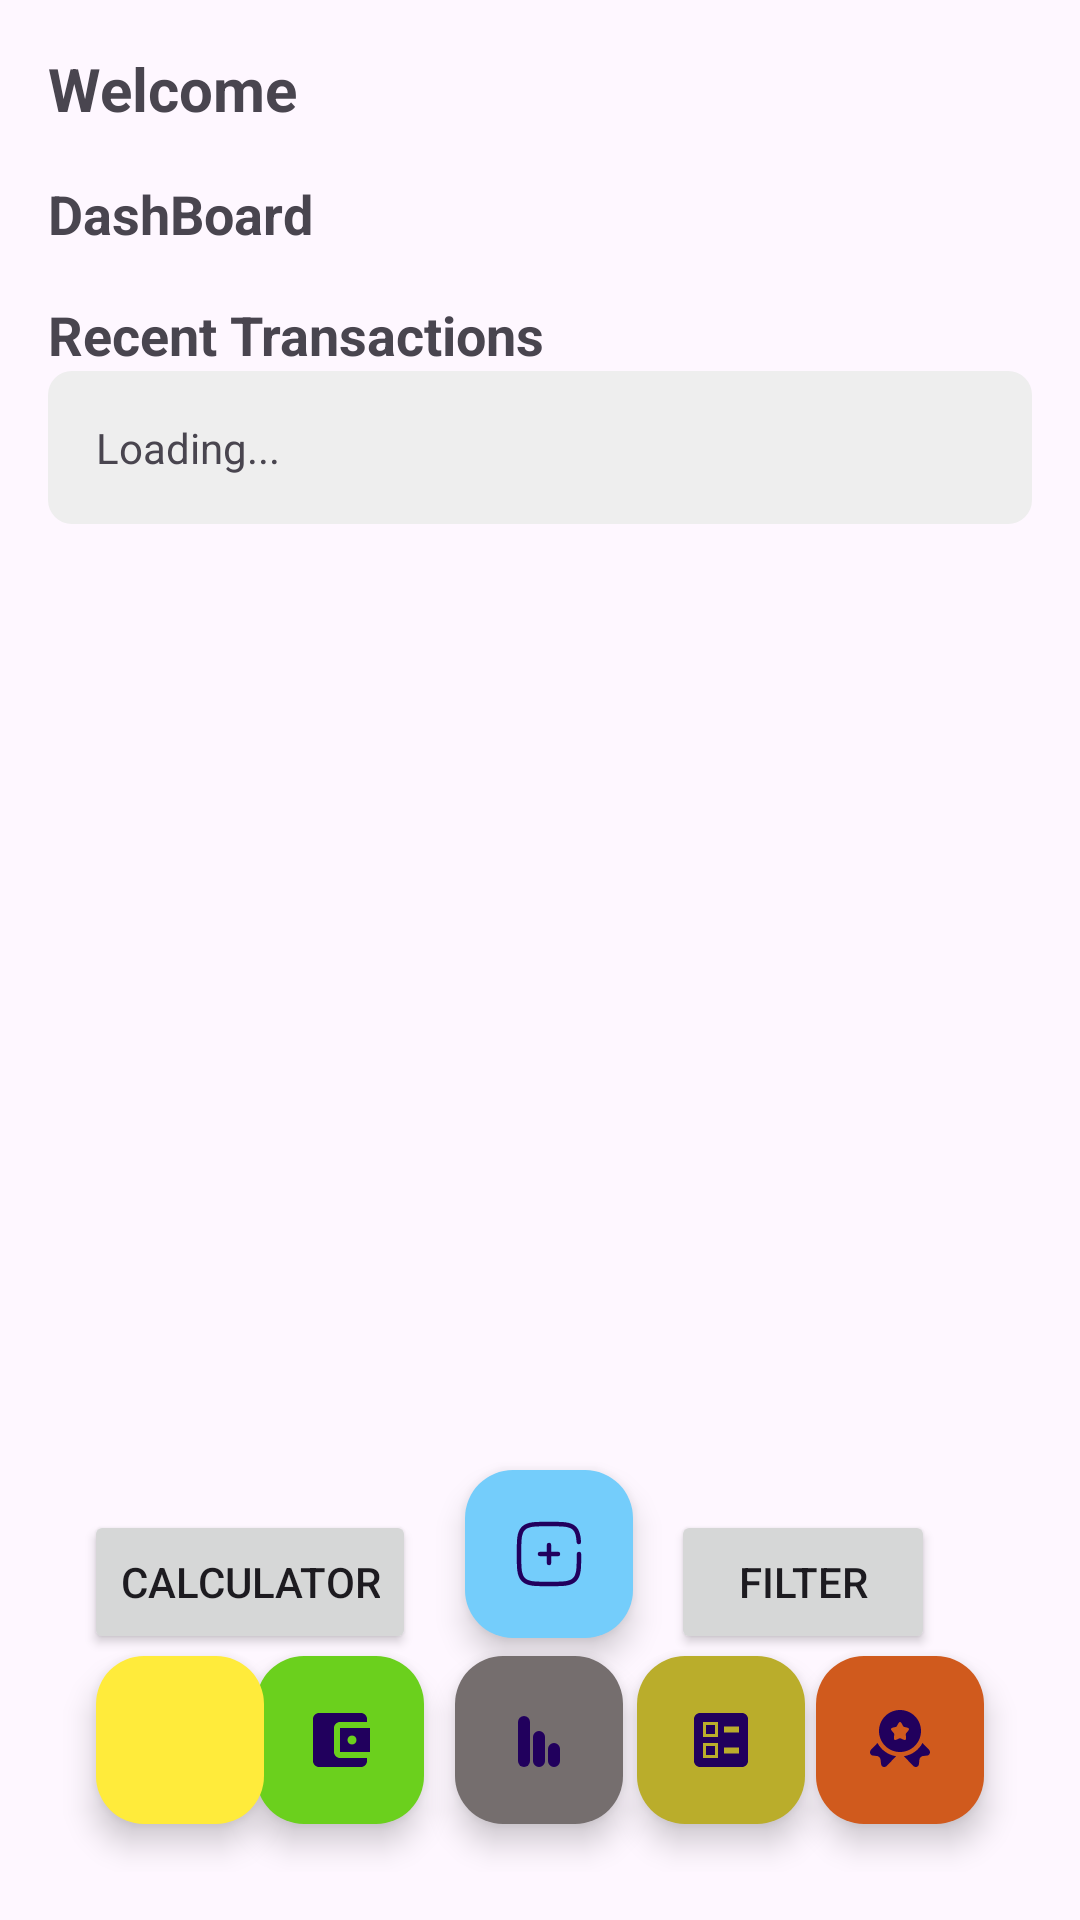

Named icons in this screenshot (1080px×1920px) and their centers, (x=x, y=y):
Category summary: (x=539, y=1740)
Set Goals: (x=900, y=1740)
View Expenses: (x=721, y=1740)
